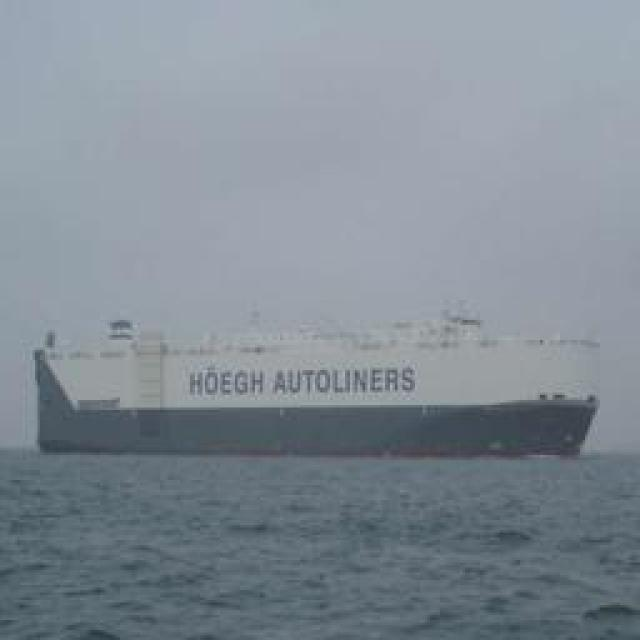CIV_Ship: (29, 328, 592, 448)
